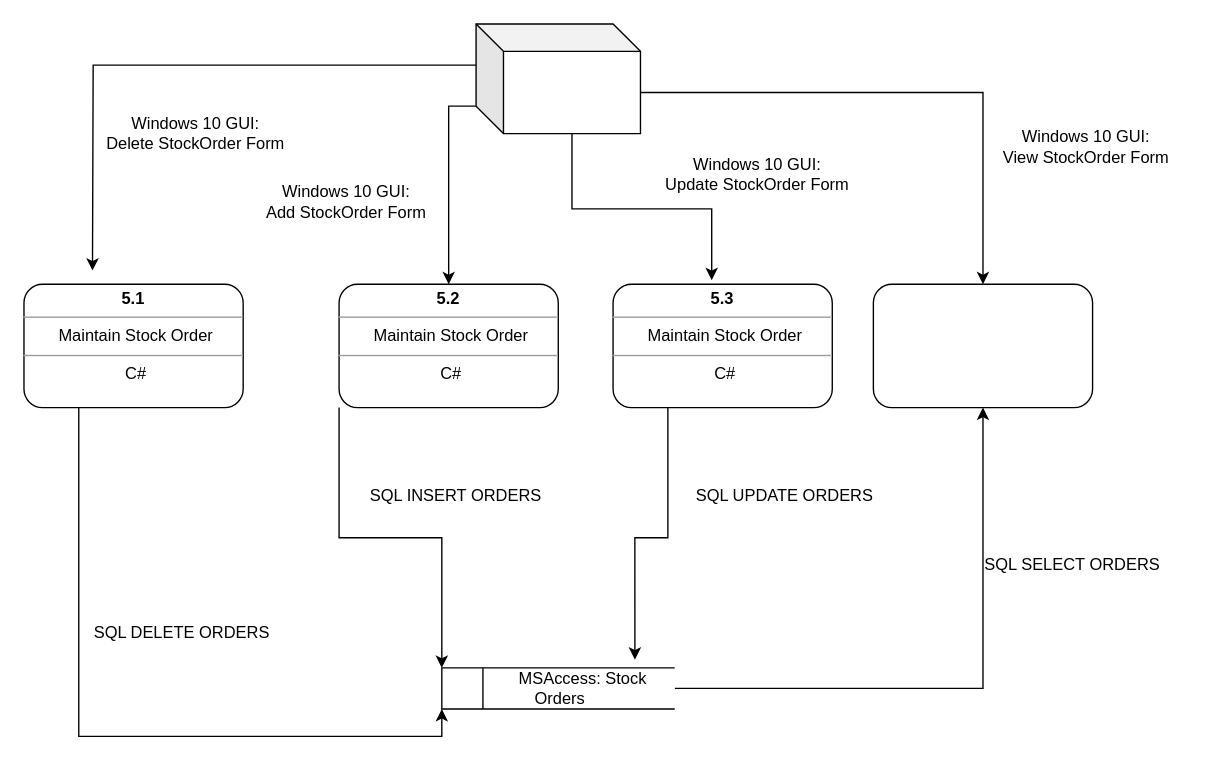
Image size: 1206x771. Some labels were removed from this diagram. Here are the shapes that lost their labels. From the top down, the centre of each, then its label:
pixel 557 78: Supervisor
pixel 982 345: 5.4 Maintain Stock Order C#
